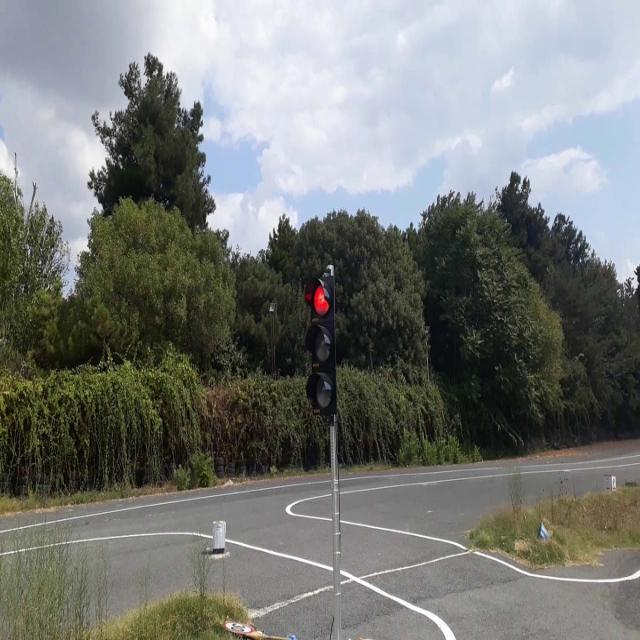kirmizi: (307, 272, 338, 410)
